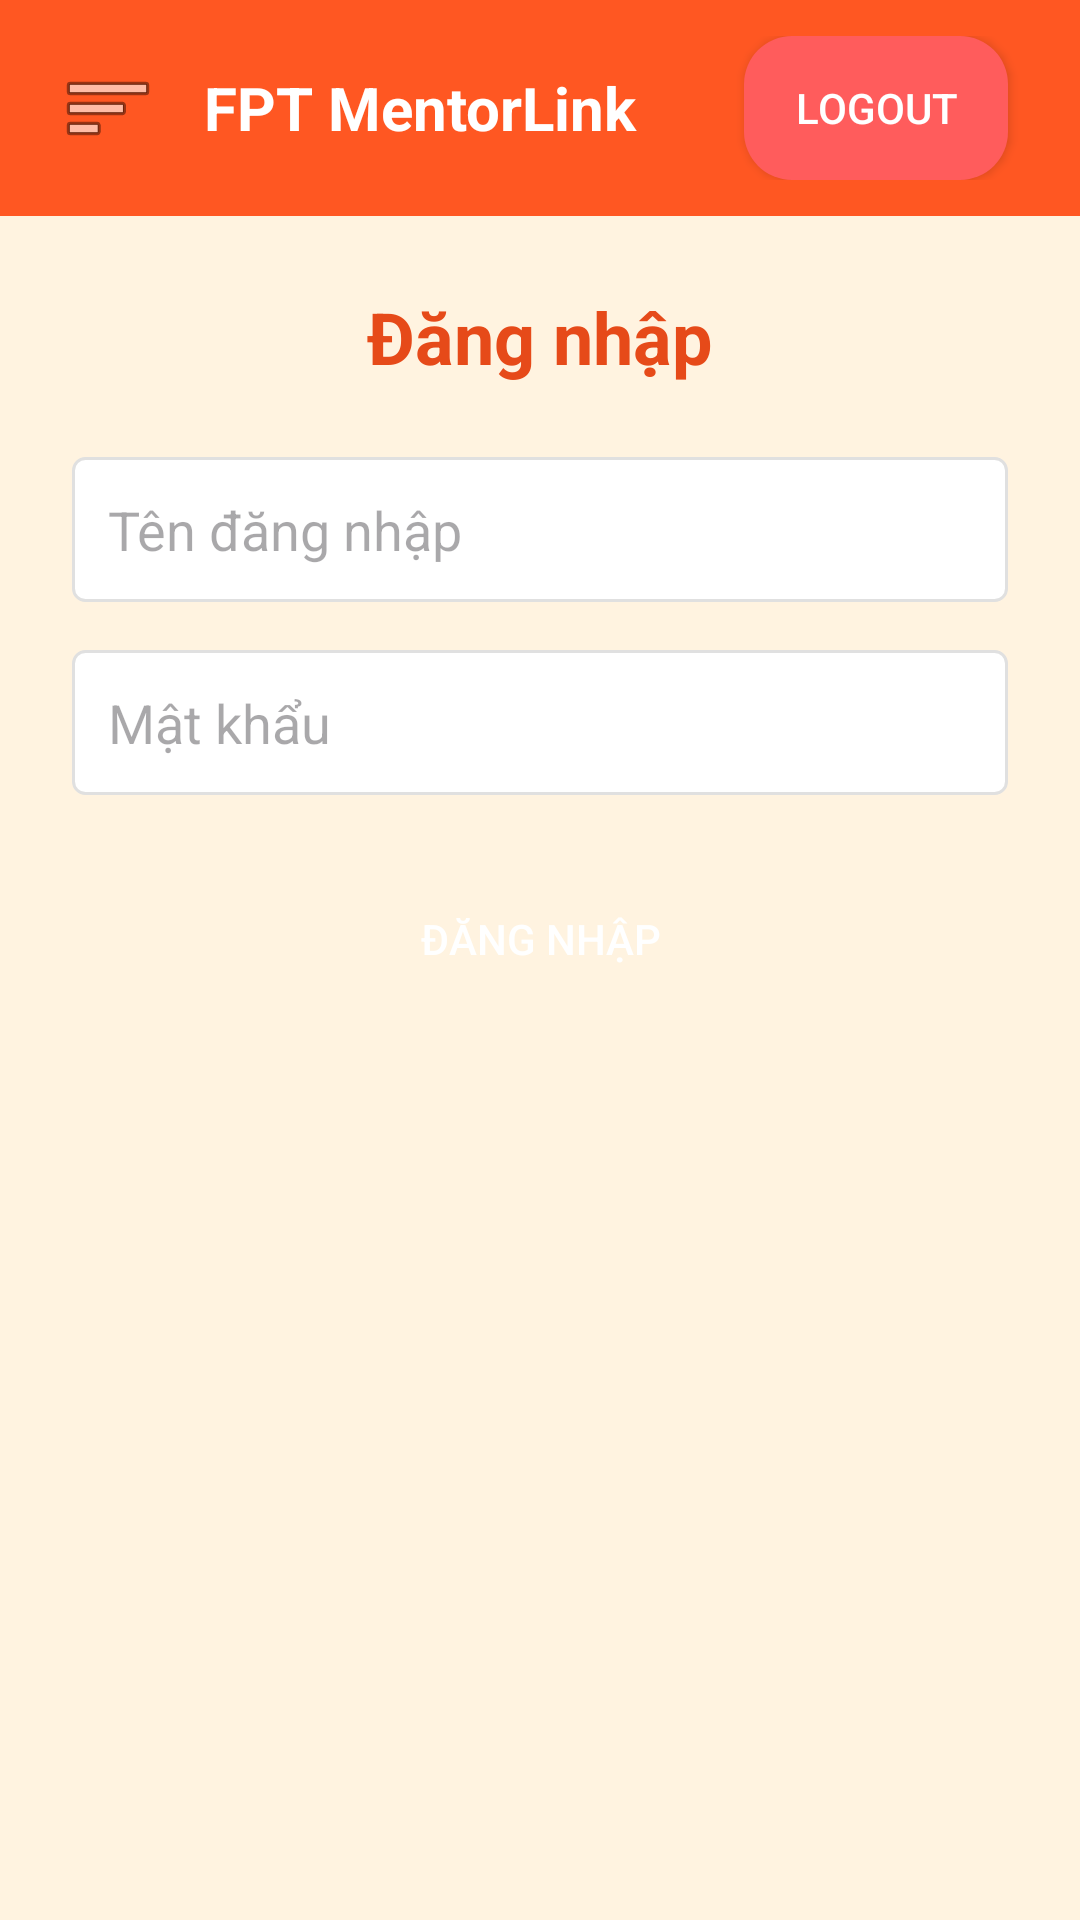

Where icons sit on this 1080*1920 app screen, as (x1, y1, x2, y2):
Menu: (67, 82, 149, 135)
